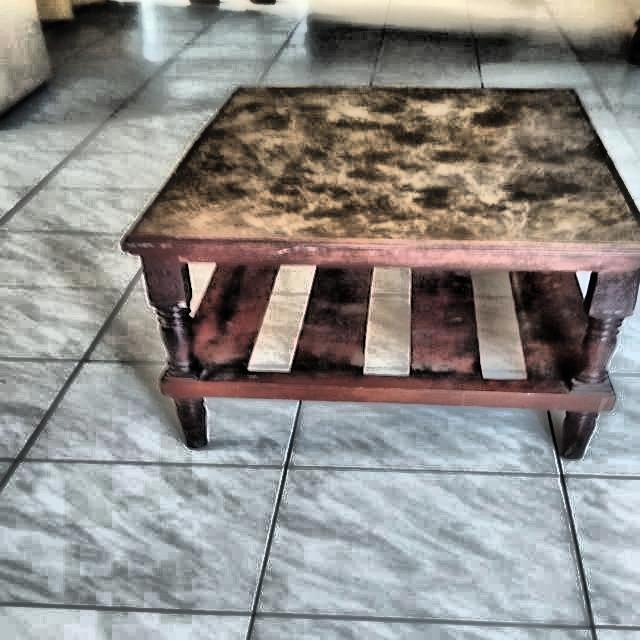mesa: (103, 80, 640, 466)
